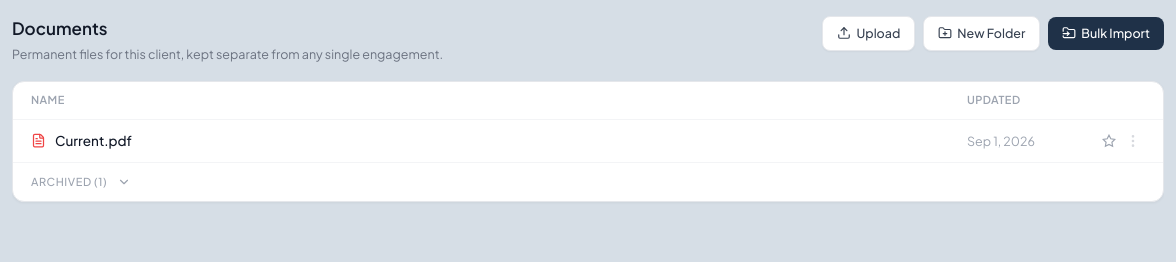
FolderBrowser Archived toggle › reveals the superseded doc alongside the active doc after clicking the toggle
Expected: the text "Current.pdf" is shown, [55,131,132,151]
Note: Click the toggle button (sibling of the "Archived (1)" span).
Click the button without text in the row of "Archived (" at (124, 182), box [115,173,133,191]
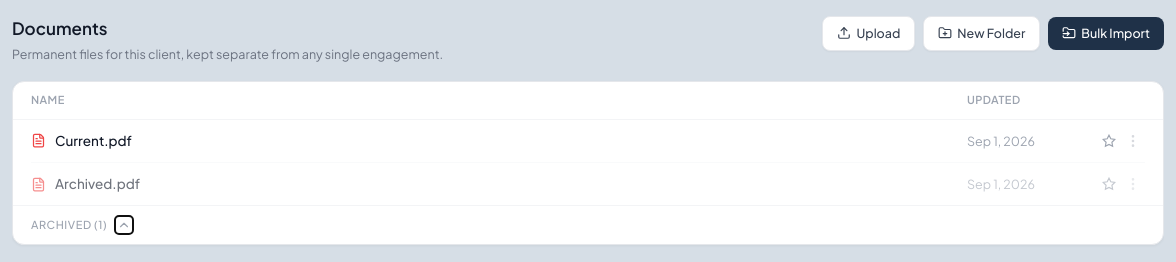
Expected: the text "Current.pdf" is shown, [55,131,132,151]
Now the text "Archived.pdf" is shown, box [55,174,140,194]
